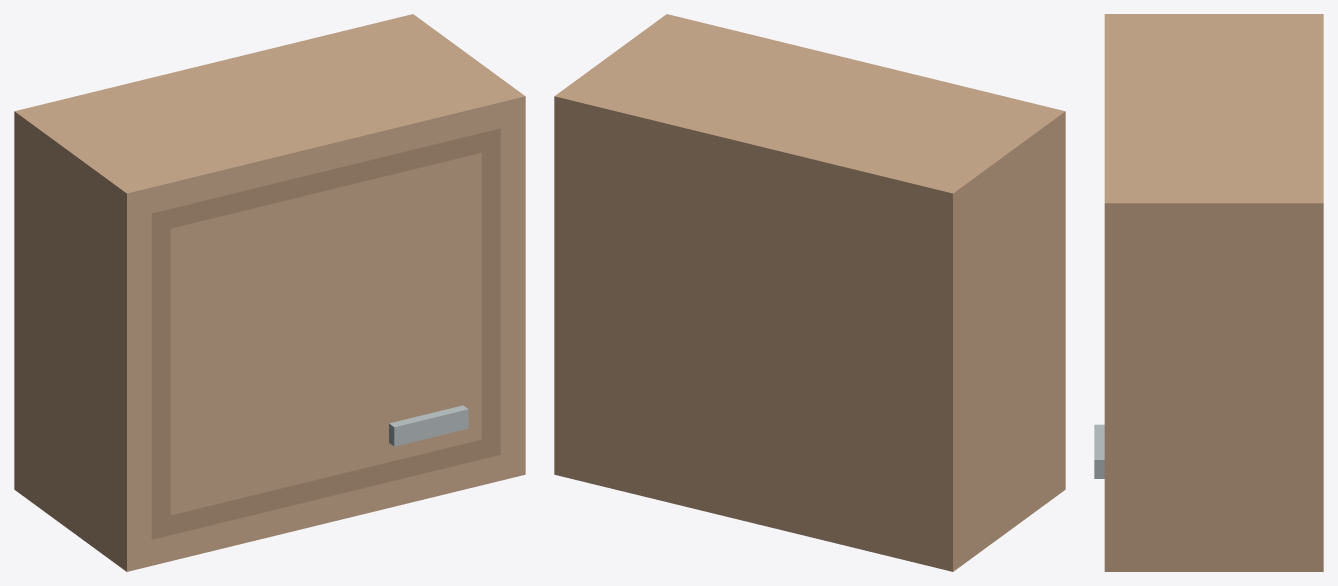
The model's file is kitchenCabinetUpper.glb.
3 views of the same model, side by side, from view 1: azimuth 30°, elevation 25°; view 2: azimuth 150°, elevation 25°; view 3: azimuth 270°, elevation 25° (orthographic). The views are drawn at different scales.
Visible parts, largest first — view 1: kitchenCabinetUpper; view 2: kitchenCabinetUpper; view 3: kitchenCabinetUpper.
Boxes of the visible parts, bbox=[...] form: kitchenCabinetUpper: bbox=[14, 14, 525, 571]; kitchenCabinetUpper: bbox=[554, 14, 1065, 571]; kitchenCabinetUpper: bbox=[1094, 14, 1323, 571].
Bounding box in the file's own units: 0.43 × 0.39 × 0.22.
